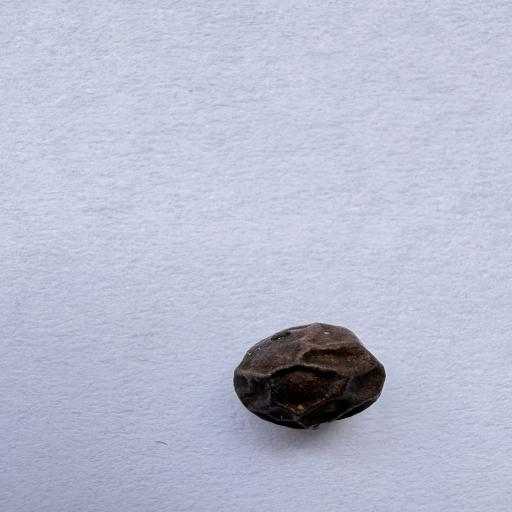Black_pepper: (200, 311, 445, 438)
